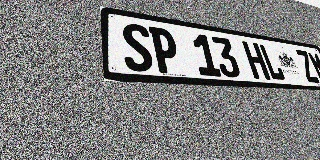1: (190, 33, 222, 77)
3: (211, 36, 242, 78)
H: (242, 41, 271, 80)
L: (258, 43, 286, 81)
M: (306, 51, 320, 84)
P: (148, 26, 181, 74)
S: (121, 22, 155, 72)
Z: (294, 49, 320, 83)
